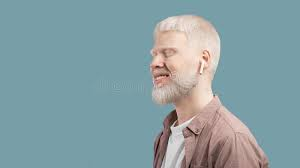earphone: (199, 50, 211, 74)
